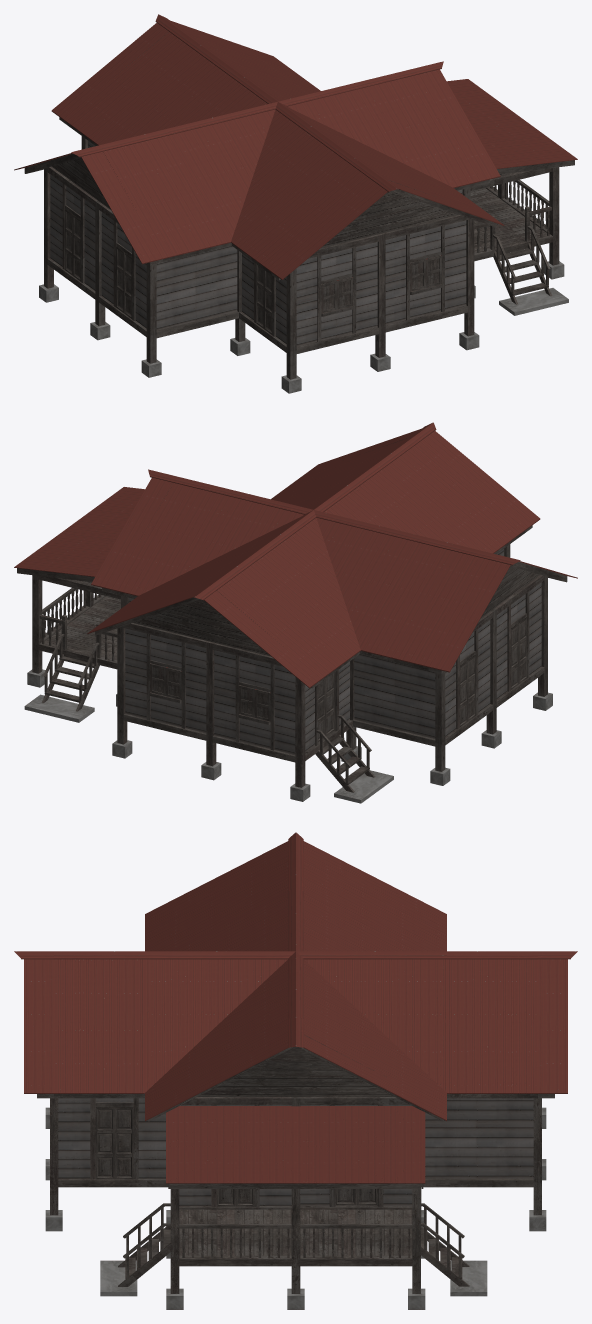
Rendered from House_3.fbx.
The picture shows the model from 3 angles, top to bottom: view 1: azimuth 30°, elevation 25°; view 2: azimuth 150°, elevation 25°; view 3: azimuth 270°, elevation 25°; orthographic projection. The views are drawn at different scales.
Parts seen in each view (by area): view 1: Roof_3.001, Porch_2.001, Roof.Ex_2.002, Wall.Window_S, Roof.Ex_2.001, Roof.Ex_2.008, Wall.Window_S.002, Wall.006, Roof_End.005, Wall.Window_L.013, Roof_End.008, Wall.Window_L.012 (+15 smaller); view 2: Roof_3.001, Porch_2.001, Roof.Ex_2.002, Wall.Window_S.011, Roof.Ex_2.008, Wall.Window_S.010, Roof.Ex_2.001, Wall.008, Roof_End.007, Wall.Window_L.012, Roof_End.008, Wall.Window_L.013 (+17 smaller); view 3: Roof_3.001, Porch_2.001, Roof.Ex_2.001, Roof.Ex_2.008, Roof.Ex_2.002, Wall.007, Roof_End.006, Wall.Window_L, Roof.Ex_2.006, Roof_End.005, Roof_End.007, Roof_End.008 (+9 smaller).
Boxes of the visible parts, x1=… form: Roof_3.001: x1=109, y1=55, x2=452, y2=246; Porch_2.001: x1=447, y1=79, x2=577, y2=279; Roof.Ex_2.002: x1=38, y1=129, x2=230, y2=262; Wall.Window_S: x1=384, y1=214, x2=479, y2=350; Roof.Ex_2.001: x1=231, y1=148, x2=490, y2=274; Roof.Ex_2.008: x1=64, y1=26, x2=320, y2=145; Wall.Window_S.002: x1=296, y1=233, x2=390, y2=371; Wall.006: x1=156, y1=246, x2=250, y2=355; Roof_End.005: x1=269, y1=177, x2=504, y2=280; Wall.Window_L.013: x1=47, y1=166, x2=110, y2=340; Roof_End.008: x1=14, y1=145, x2=164, y2=265; Wall.Window_L.012: x1=99, y1=203, x2=161, y2=377; Roof_3.001: x1=139, y1=463, x2=482, y2=654; Porch_2.001: x1=14, y1=487, x2=144, y2=687; Roof.Ex_2.002: x1=361, y1=537, x2=553, y2=670; Wall.Window_S.011: x1=123, y1=623, x2=221, y2=780; Roof.Ex_2.008: x1=101, y1=557, x2=360, y2=682; Wall.Window_S.010: x1=212, y1=642, x2=310, y2=801; Roof.Ex_2.001: x1=271, y1=435, x2=527, y2=554; Wall.008: x1=353, y1=654, x2=450, y2=785; Roof_End.007: x1=87, y1=585, x2=322, y2=688; Wall.Window_L.012: x1=494, y1=575, x2=552, y2=710; Roof_End.008: x1=427, y1=553, x2=577, y2=673; Wall.Window_L.013: x1=445, y1=608, x2=501, y2=748; Roof_3.001: x1=145, y1=887, x2=446, y2=1092; Porch_2.001: x1=166, y1=1106, x2=425, y2=1309; Roof.Ex_2.001: x1=54, y1=951, x2=144, y2=1098; Roof.Ex_2.008: x1=447, y1=951, x2=537, y2=1098; Roof.Ex_2.002: x1=145, y1=849, x2=446, y2=951; Wall.007: x1=421, y1=1098, x2=546, y2=1231; Roof_End.006: x1=145, y1=1030, x2=446, y2=1121; Wall.Window_L: x1=58, y1=1098, x2=170, y2=1223; Roof.Ex_2.006: x1=145, y1=1015, x2=446, y2=1107; Roof_End.005: x1=14, y1=951, x2=53, y2=1098; Roof_End.007: x1=538, y1=951, x2=577, y2=1098; Roof_End.008: x1=145, y1=832, x2=446, y2=926.
Bounding box in the file's own units: 1425 × 576 × 1306.
